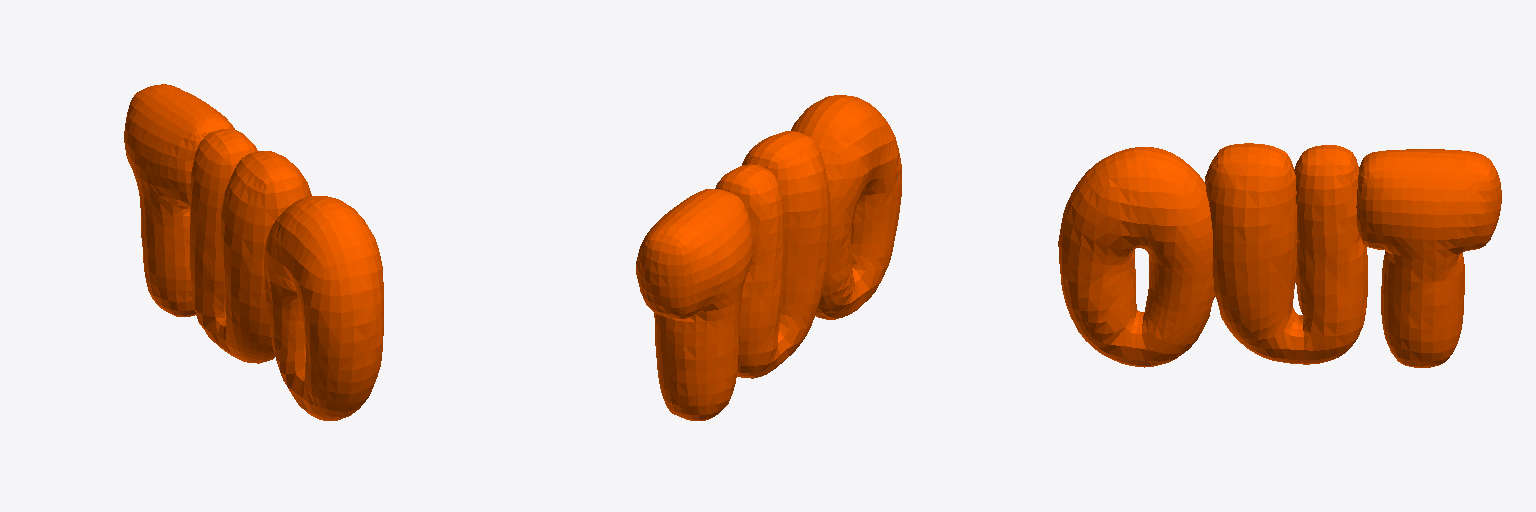
3 views of the same model, side by side, from view 1: azimuth 30°, elevation 25°; view 2: azimuth 150°, elevation 25°; view 3: azimuth 270°, elevation 25° (orthographic).
Visible parts, largest first — view 1: _out:out; view 2: _out:out; view 3: _out:out.
Part boxes in pixels (x1,y1,x2,y2): _out:out: (124,84,383,420); _out:out: (636,95,901,420); _out:out: (1058,143,1501,367).
Bounding box in the file's own units: 0.1369 × 0.3298 × 0.6054.